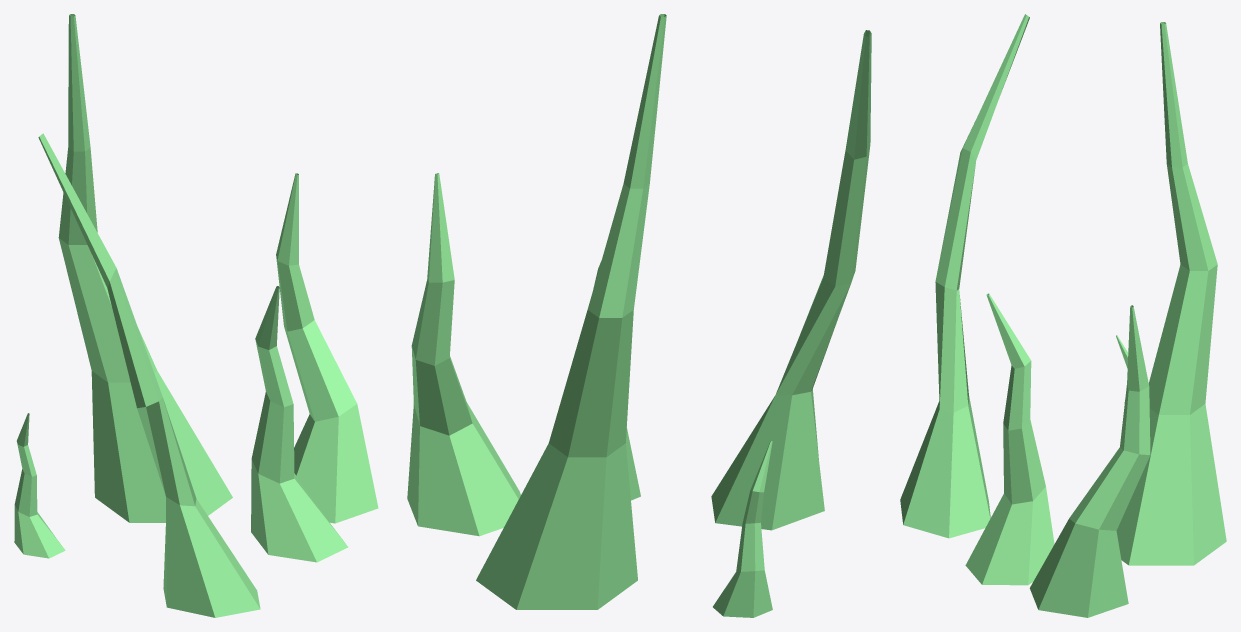
File: highGrass_01.gltf
3 renders of one model, left to right at view 1: azimuth 30°, elevation 25°; view 2: azimuth 150°, elevation 25°; view 3: azimuth 270°, elevation 25°, orthographic. The views are drawn at different scales.
Parts seen in each view (by area): view 1: Cone, Cone.003, Cone.001, Cone.002, Cone.004; view 2: Cone, Cone.003, Cone.001, Cone.004; view 3: Cone, Cone.003, Cone.001, Cone.002.
Part boxes in pixels (bbox=[...]): Cone: bbox=[58, 14, 232, 522]; Cone.003: bbox=[38, 133, 260, 617]; Cone.001: bbox=[276, 173, 378, 523]; Cone.002: bbox=[251, 286, 348, 562]; Cone.004: bbox=[14, 413, 65, 558]; Cone: bbox=[476, 14, 666, 609]; Cone.003: bbox=[711, 30, 871, 530]; Cone.001: bbox=[407, 173, 520, 536]; Cone.004: bbox=[713, 441, 772, 617]; Cone: bbox=[1116, 22, 1226, 565]; Cone.003: bbox=[900, 14, 1029, 538]; Cone.001: bbox=[1029, 305, 1150, 617]; Cone.002: bbox=[965, 293, 1054, 585].
Bounding box in the file's own units: 454 × 610 × 374.
